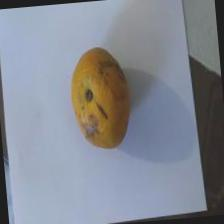Orange Rotten: (61, 37, 142, 164)
